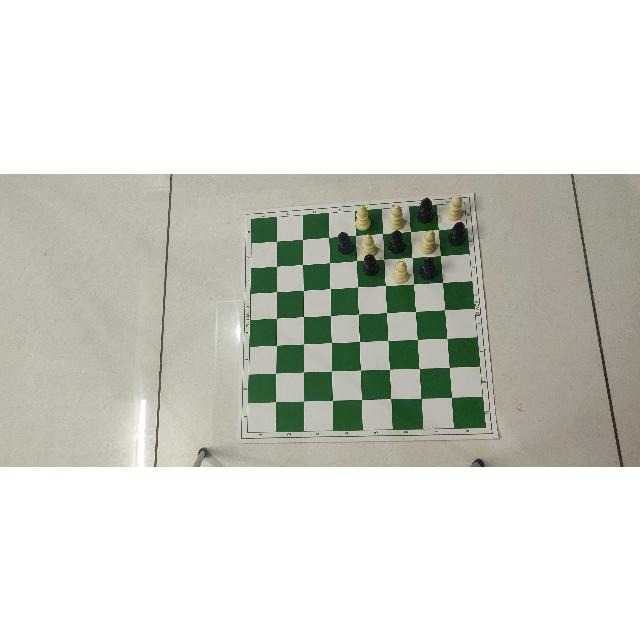black-bishop: (415, 196, 436, 222), (418, 256, 439, 281), (448, 221, 466, 247), (335, 230, 354, 254), (388, 230, 405, 254), (363, 253, 379, 276)
white-bishop: (446, 193, 464, 221), (388, 202, 405, 229), (391, 259, 409, 284), (419, 230, 437, 254), (355, 204, 372, 229), (360, 233, 378, 255)
